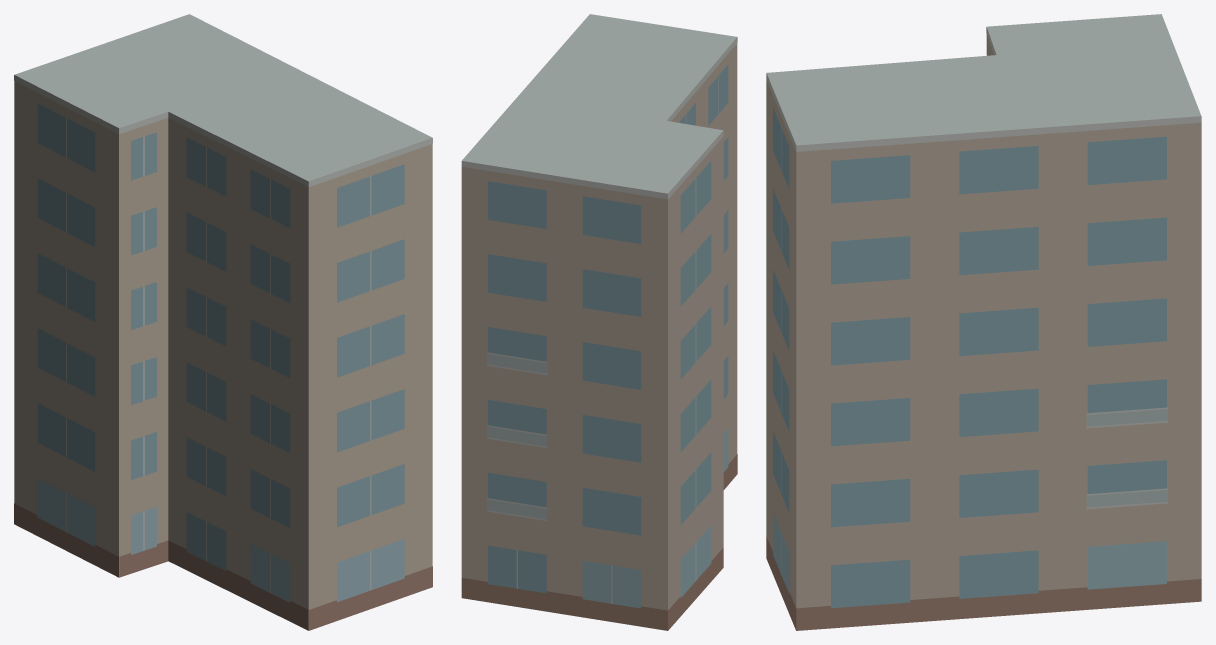
The model's file is survey-upis-33016752.glb.
3 views of the same model, side by side, from view 1: azimuth 30°, elevation 25°; view 2: azimuth 150°, elevation 25°; view 3: azimuth 270°, elevation 25° (orthographic). The views are drawn at different scales.
Parts seen in each view (by area): view 1: survey-upis-33016752.tmp; view 2: survey-upis-33016752.tmp; view 3: survey-upis-33016752.tmp.
Boxes of the visible parts, x1,y1,x2,y2 form: survey-upis-33016752.tmp: (14, 14, 432, 630); survey-upis-33016752.tmp: (461, 14, 737, 630); survey-upis-33016752.tmp: (766, 14, 1201, 630).
Bounding box in the file's own units: 10.64 × 18.3 × 14.88.
